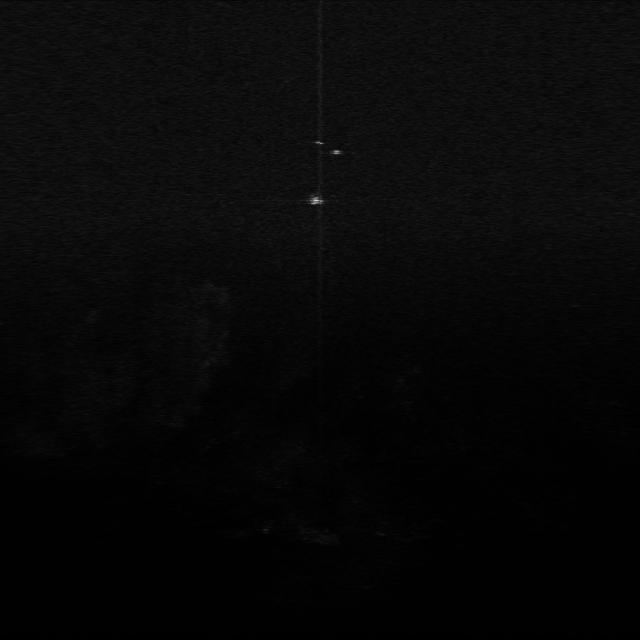rov: (302, 192, 331, 210)
